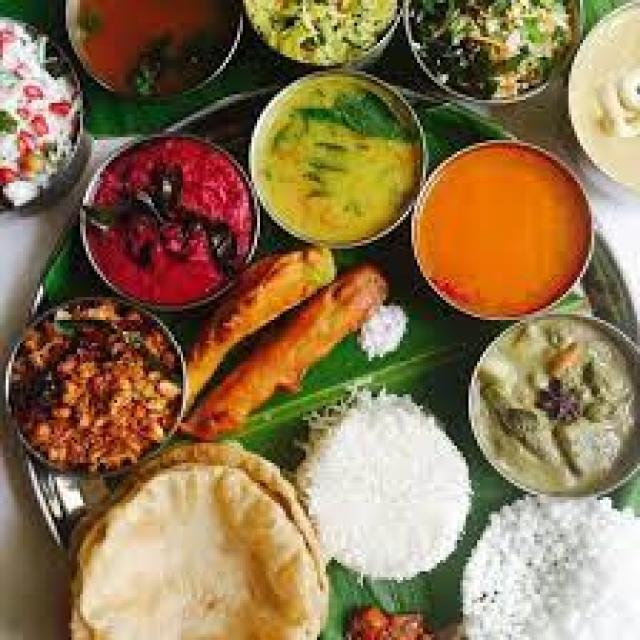dal: (411, 151, 596, 329)
rice: (296, 396, 478, 578), (454, 498, 640, 640)
sambar-rasam: (464, 310, 633, 510), (61, 0, 243, 102)
sweet: (467, 325, 633, 496)
veg-fry: (1, 293, 194, 488), (234, 0, 397, 60)
